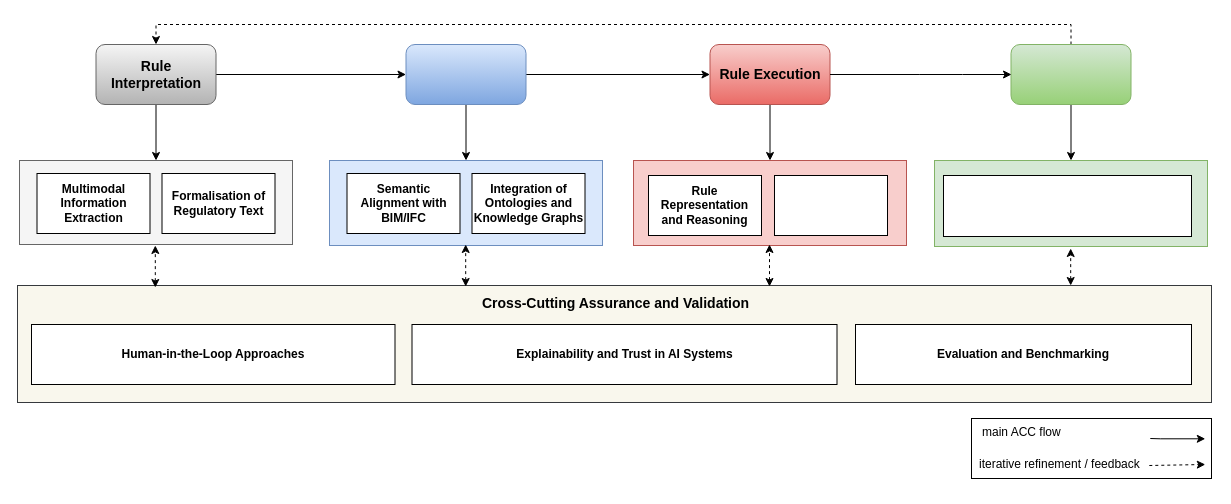
Image size: 1231x504. Some labels were removed from this diagram. Each missing label, with the box of its shape:
Model Preparation: (405, 44, 526, 104)
Model–Driven Compliance Intelligence: (774, 174, 888, 236)
Reporting & Decision Support: (1010, 44, 1131, 104)
Tool Development and Real-World Application: (942, 174, 1192, 236)
